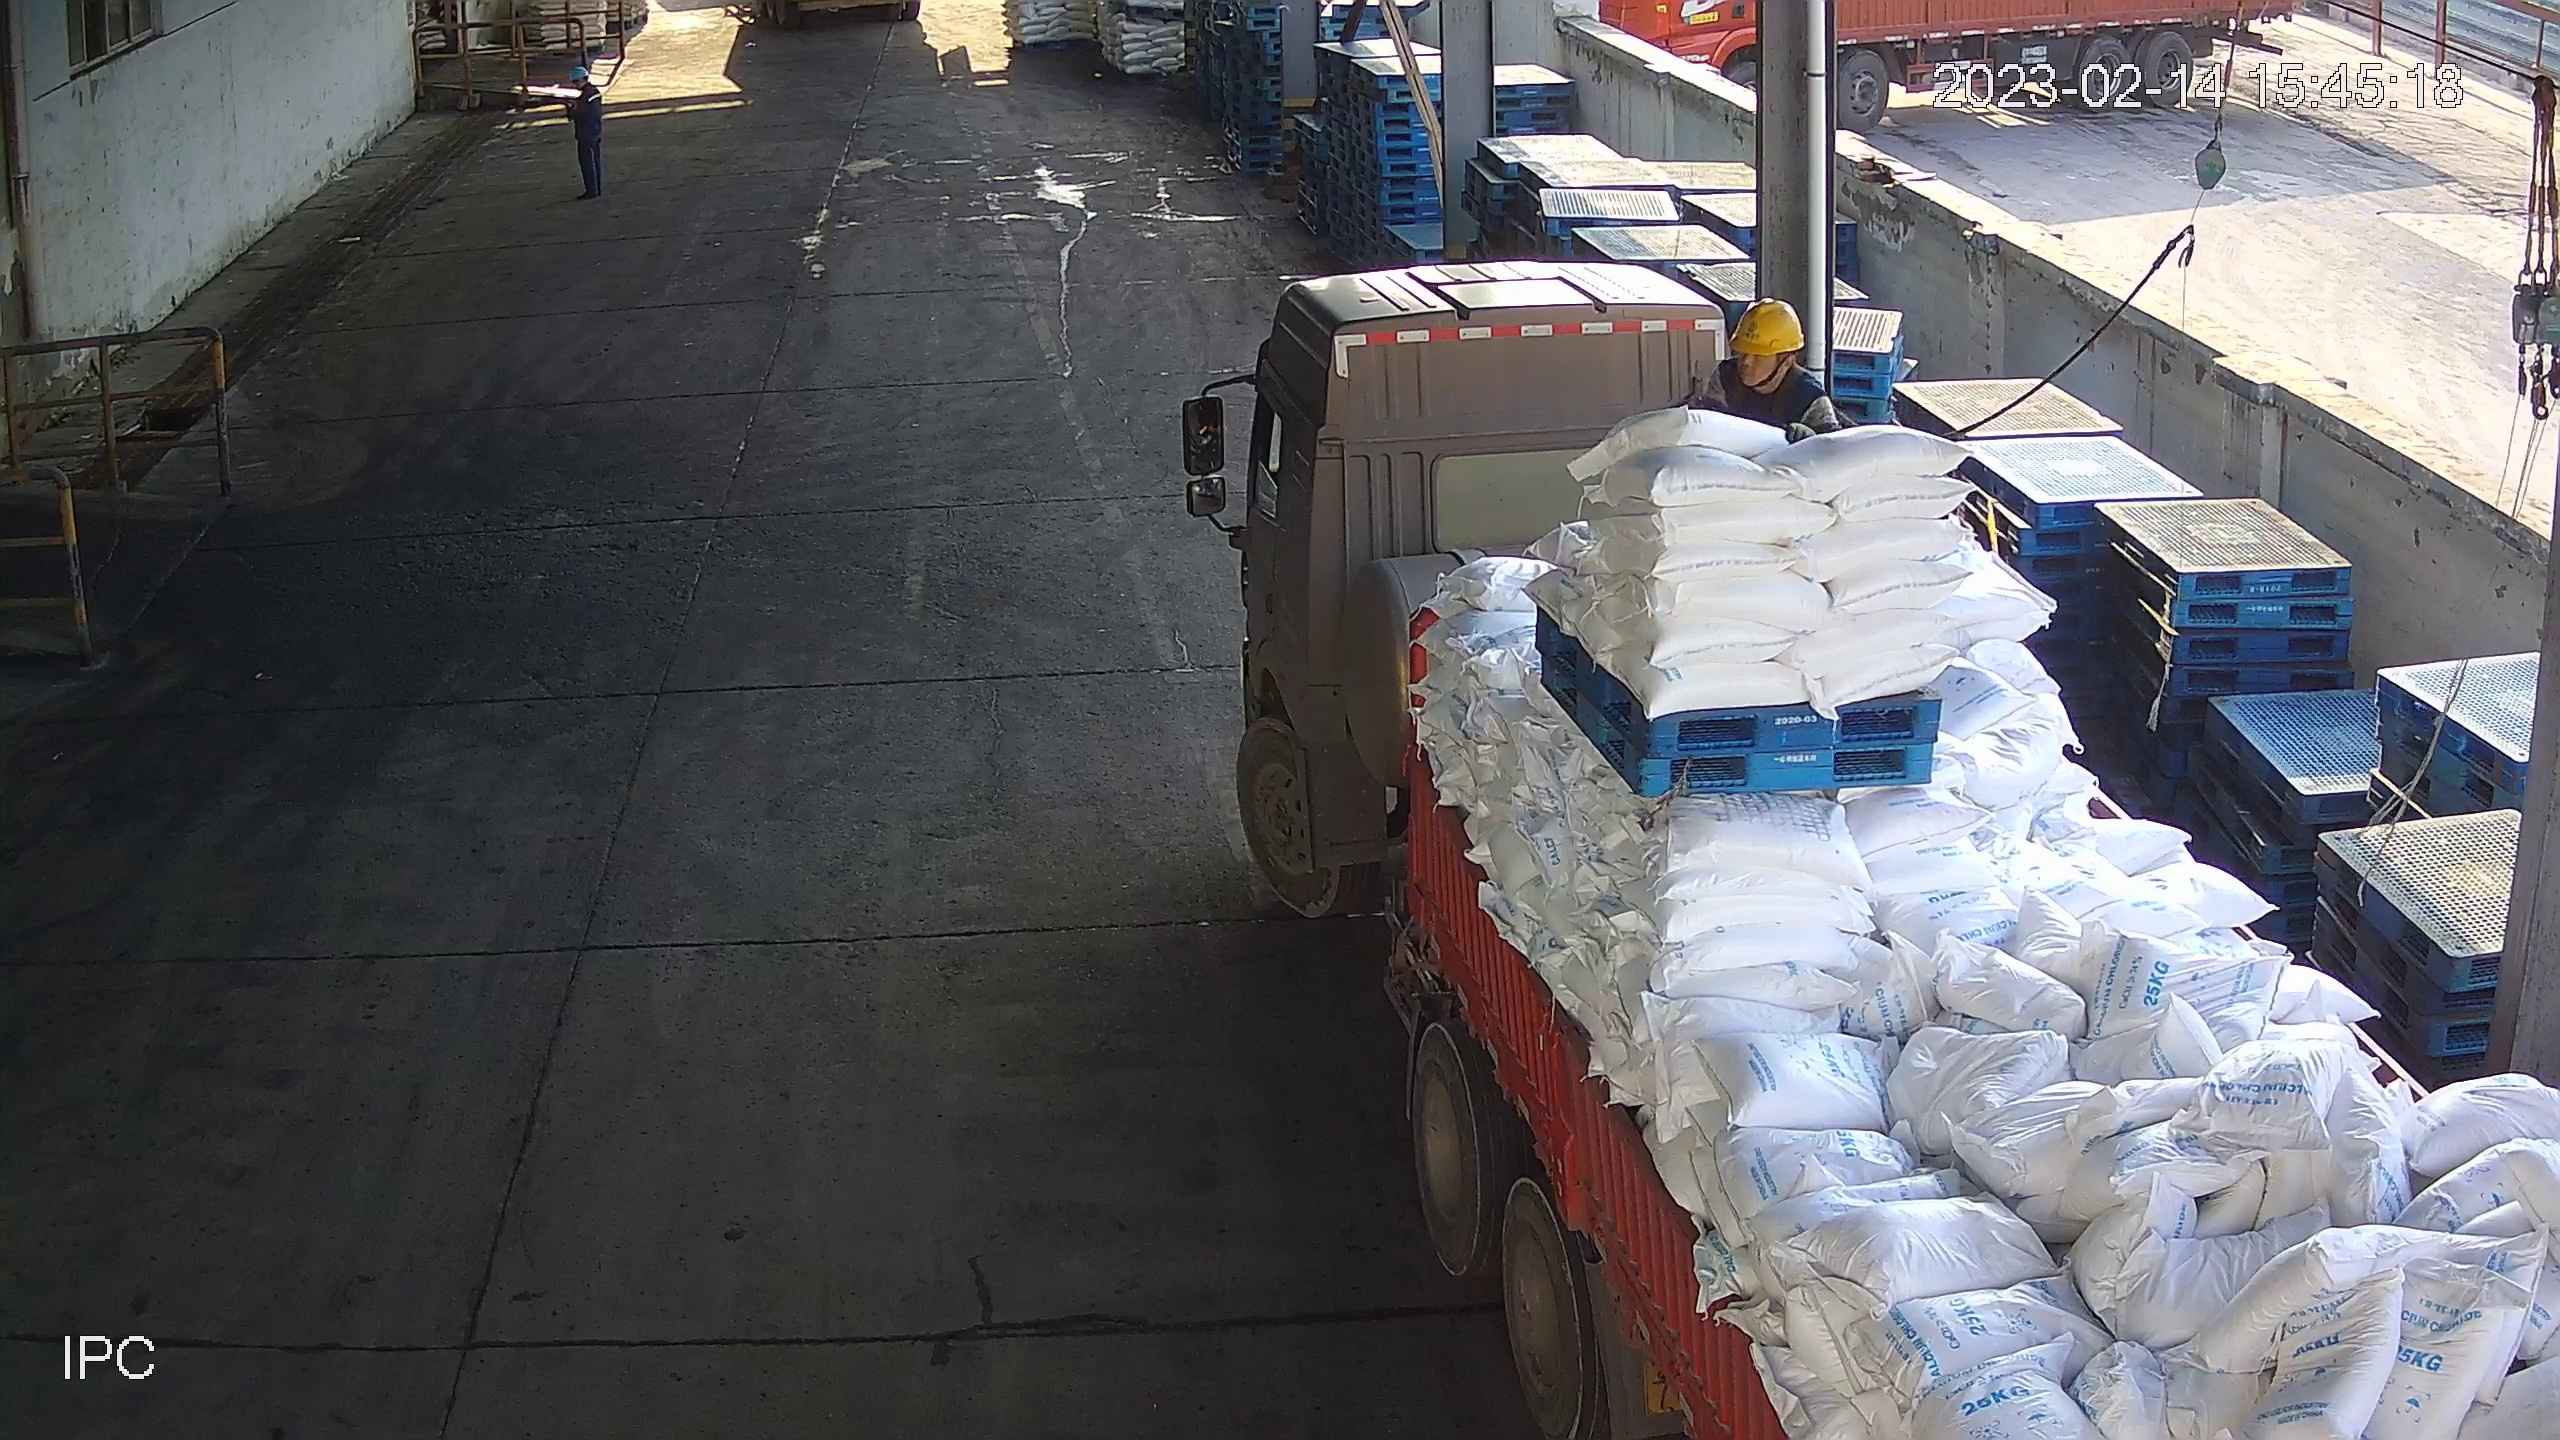belt: (1734, 378, 1802, 427)
head: (1714, 297, 1832, 408), (567, 72, 602, 109)
helmet: (1732, 293, 1806, 357), (567, 65, 590, 90)
people: (562, 64, 613, 206)
truck: (1186, 255, 2560, 1440)
